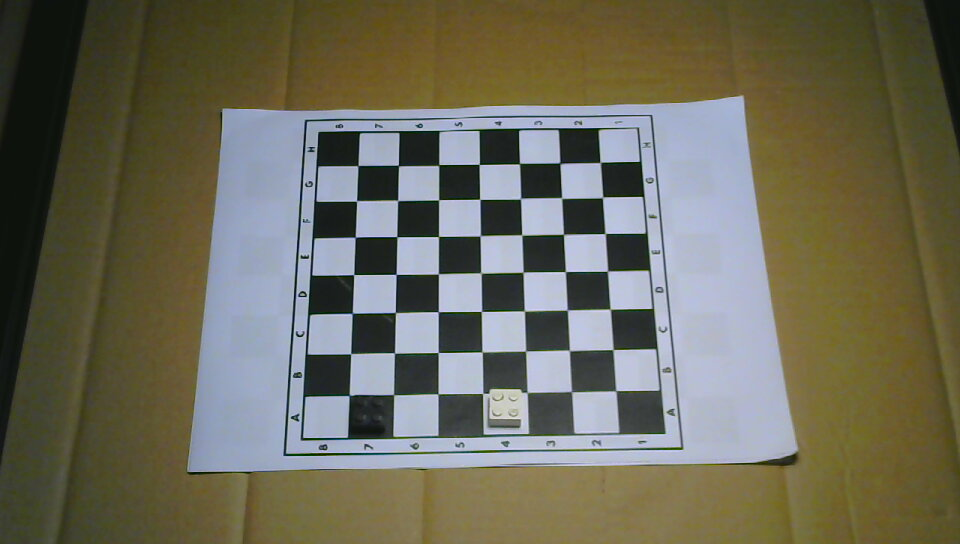bp: (352, 395, 387, 435)
wp: (489, 388, 523, 428)
